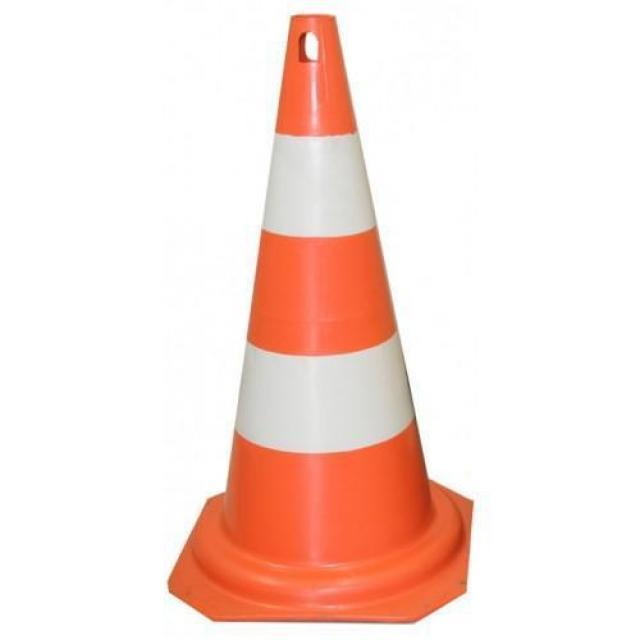traffic cone: (167, 13, 473, 625)
